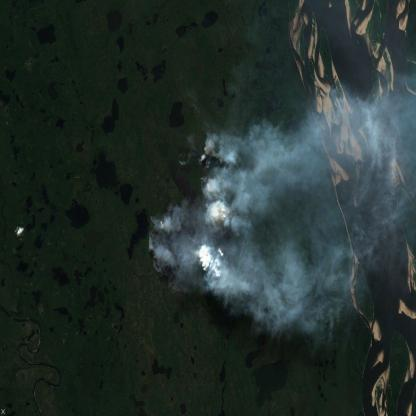fire: (147, 124, 248, 286)
